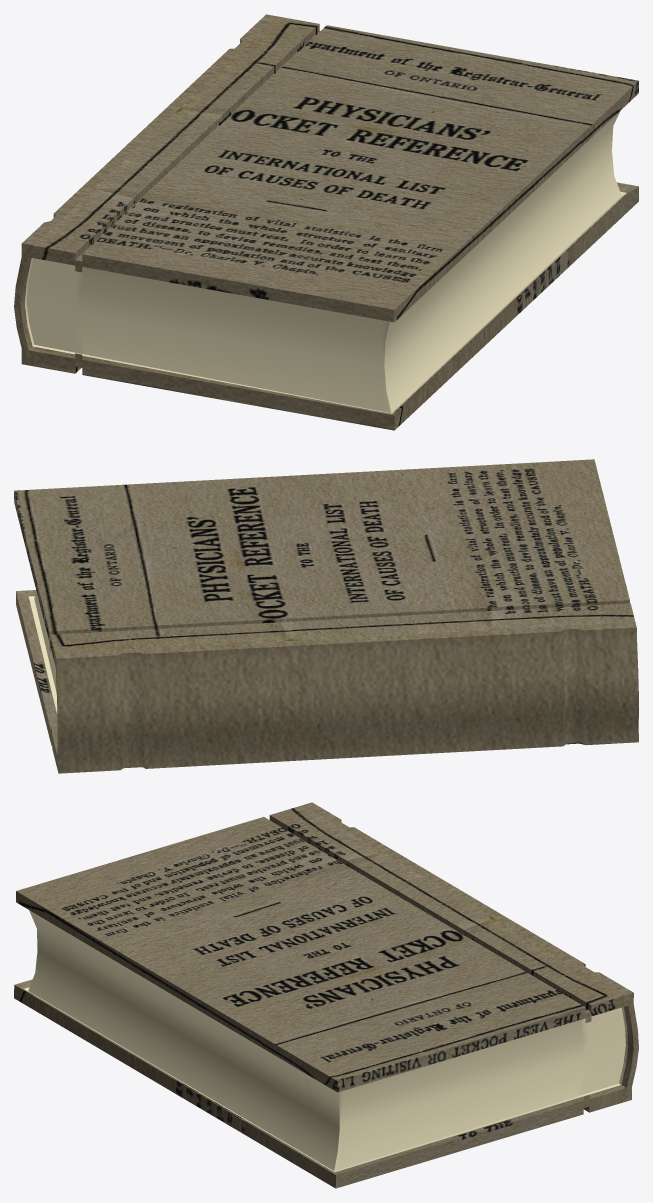
File: Book.glb
3 views of the same model, one above another, from view 1: azimuth 30°, elevation 25°; view 2: azimuth 150°, elevation 25°; view 3: azimuth 270°, elevation 25° (orthographic). The views are drawn at different scales.
Parts seen in each view (by area): view 1: book1; view 2: book1; view 3: book1.
Boxes of the visible parts, <box> form: book1: <box>14,14,638,430</box>; book1: <box>14,459,638,773</box>; book1: <box>14,802,638,1188</box>.
Size of the model in its own units: 3.68 by 0.7054 by 3.47.
Materials: 1 (1 with a texture image).
